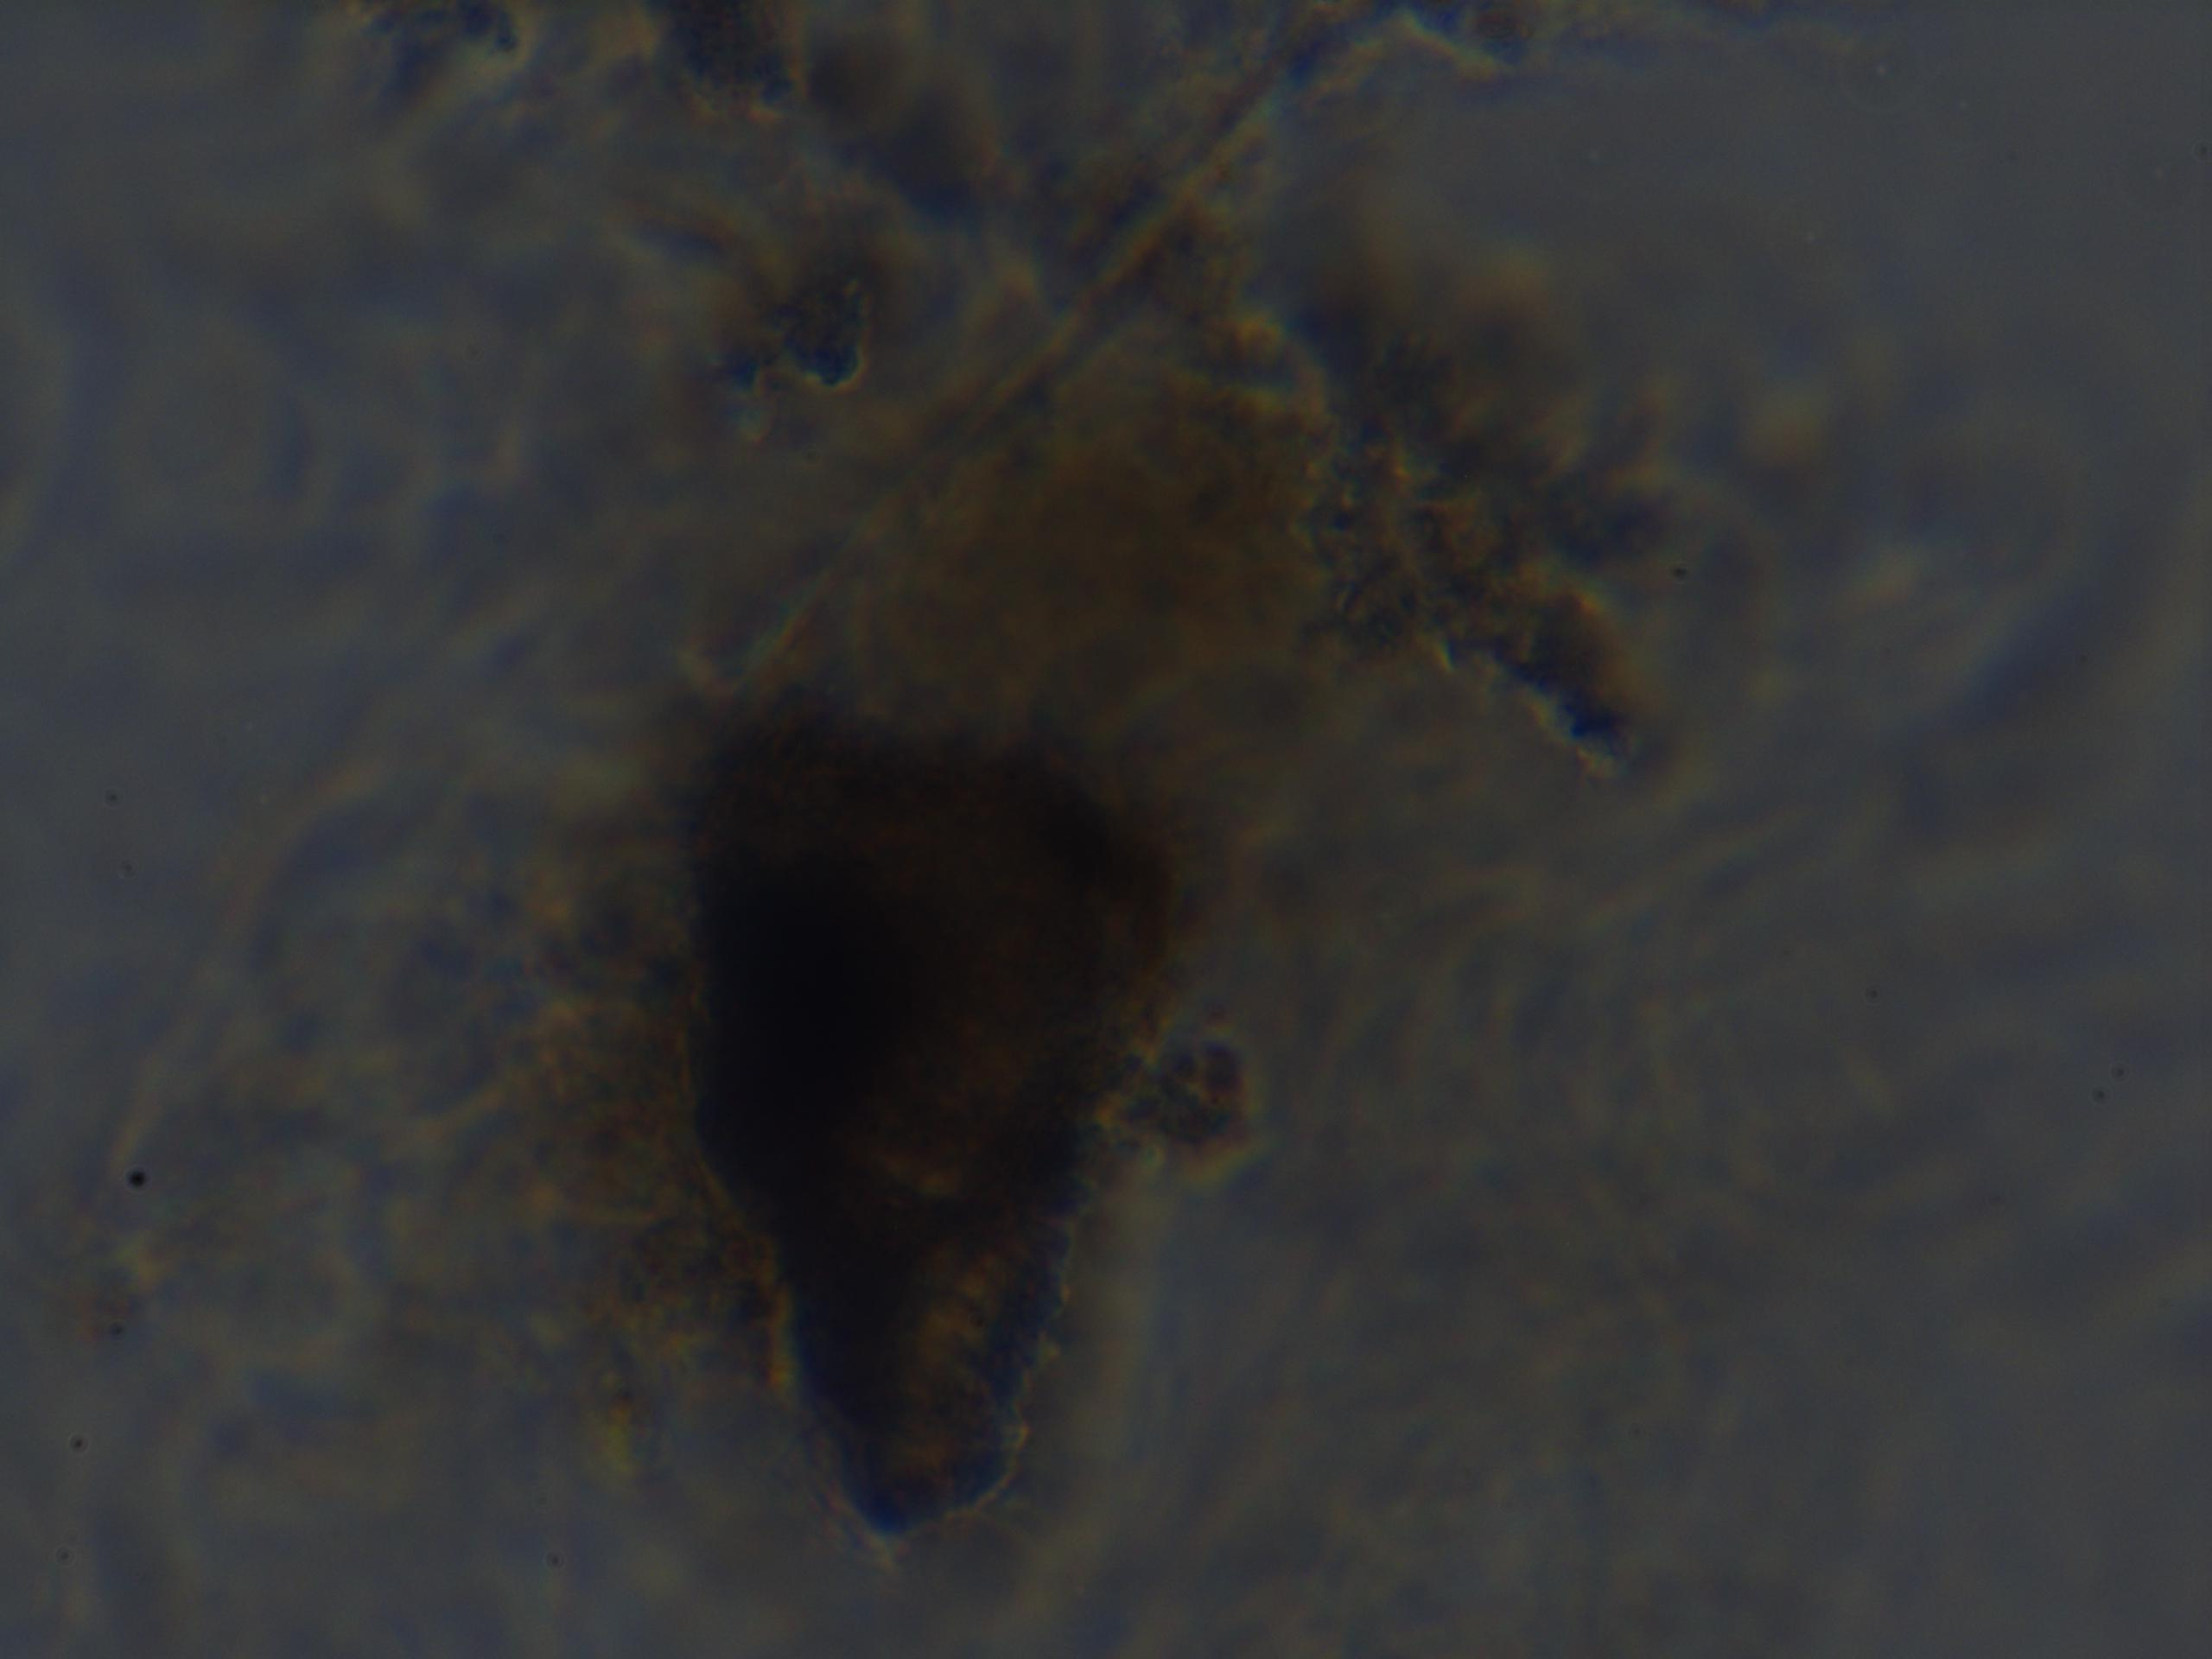filament: (688, 23, 1404, 713)
